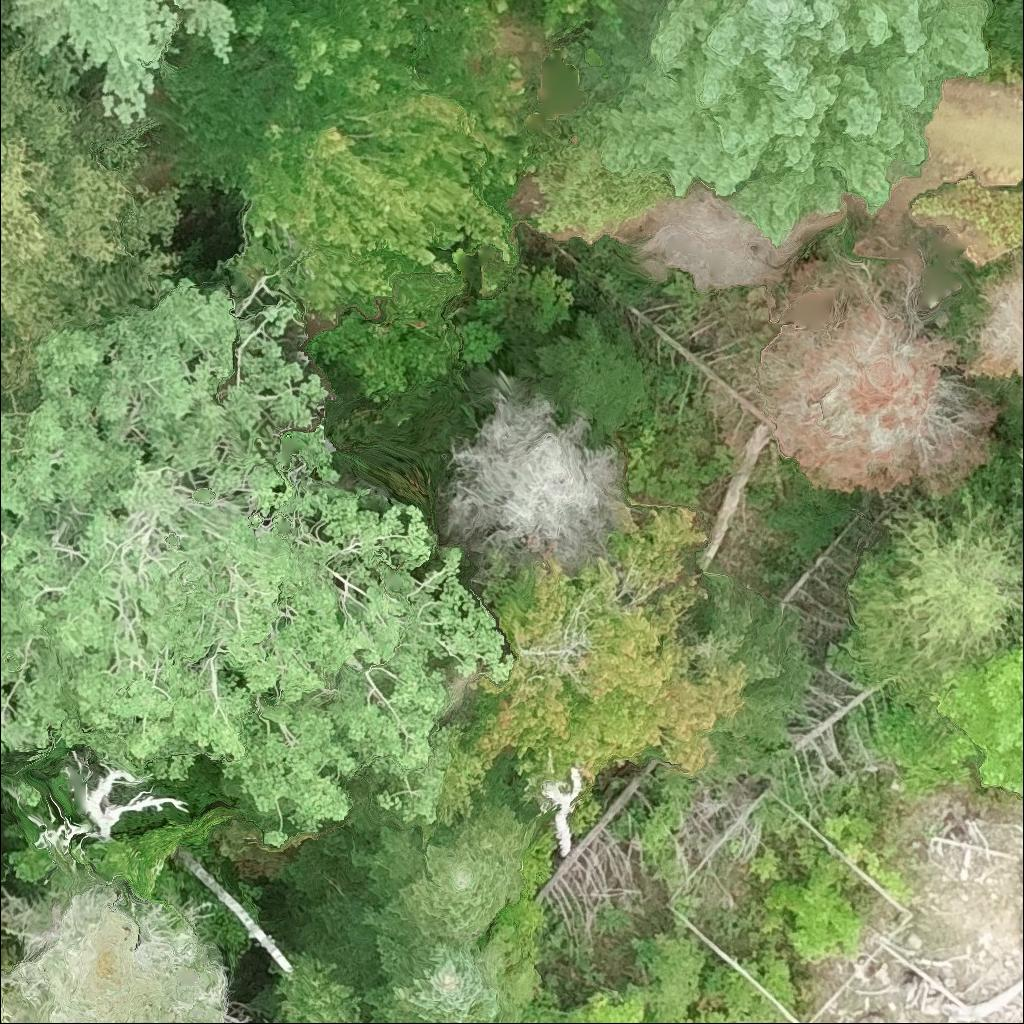crown: (0, 274, 510, 847), (152, 0, 532, 337), (570, 0, 992, 248), (463, 505, 748, 800), (0, 11, 187, 418), (746, 251, 1007, 513), (283, 755, 528, 943), (436, 368, 637, 569), (840, 488, 1023, 681), (0, 0, 242, 120), (296, 916, 525, 1023), (685, 575, 814, 747), (959, 252, 1023, 403), (913, 180, 1023, 255), (265, 951, 358, 1023), (541, 0, 623, 36), (1002, 403, 1023, 506), (983, 0, 1023, 54), (0, 926, 18, 961), (0, 1005, 0, 1013)
